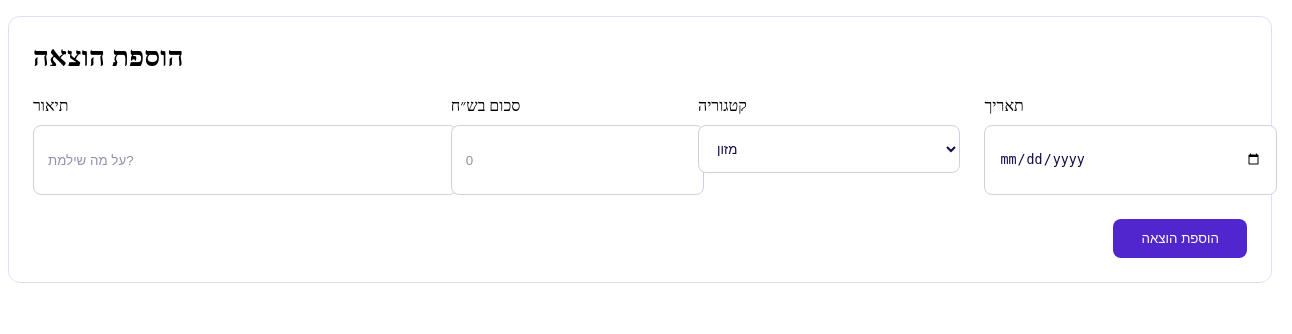
Scenario: rejects an empty description
The image size is (1292, 334).
Click the button "הוספת הוצאה": (1180, 238) [1113,219,1247,258]
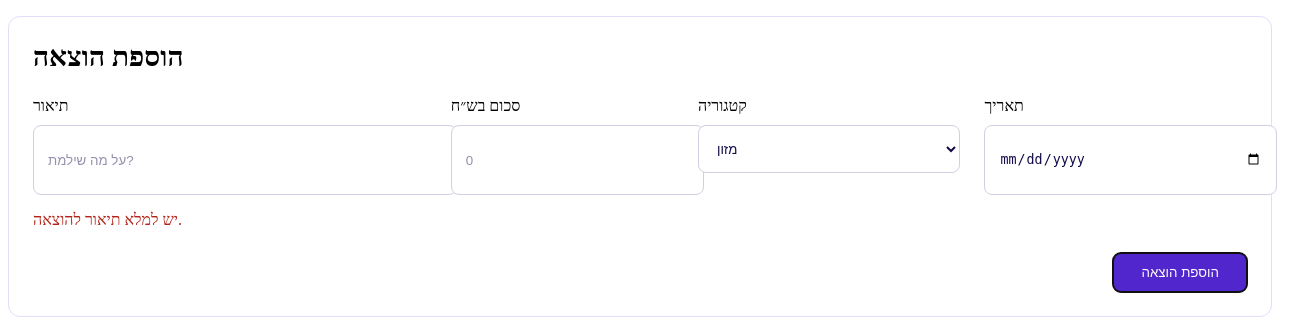
Now the message reads "יש למלא תיאור להוצאה.", box [33,211,182,228]
